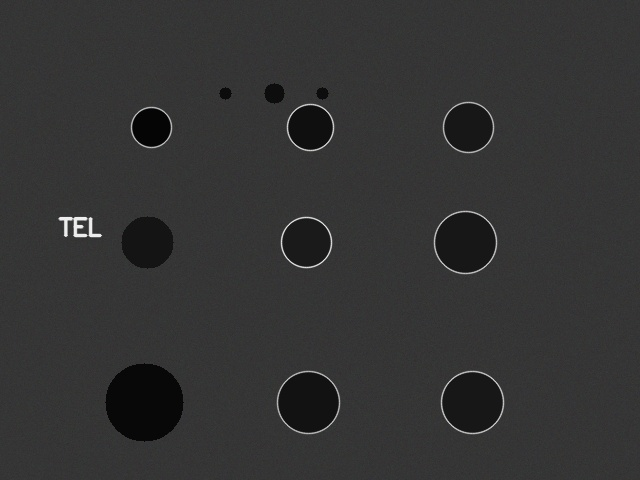hole: (105, 363, 183, 441), (434, 211, 496, 273), (277, 371, 339, 433), (441, 371, 503, 433), (121, 216, 173, 268), (443, 102, 493, 152), (281, 217, 331, 267), (287, 104, 333, 150), (131, 107, 171, 147), (264, 83, 284, 103), (219, 87, 231, 99), (316, 87, 328, 99)
